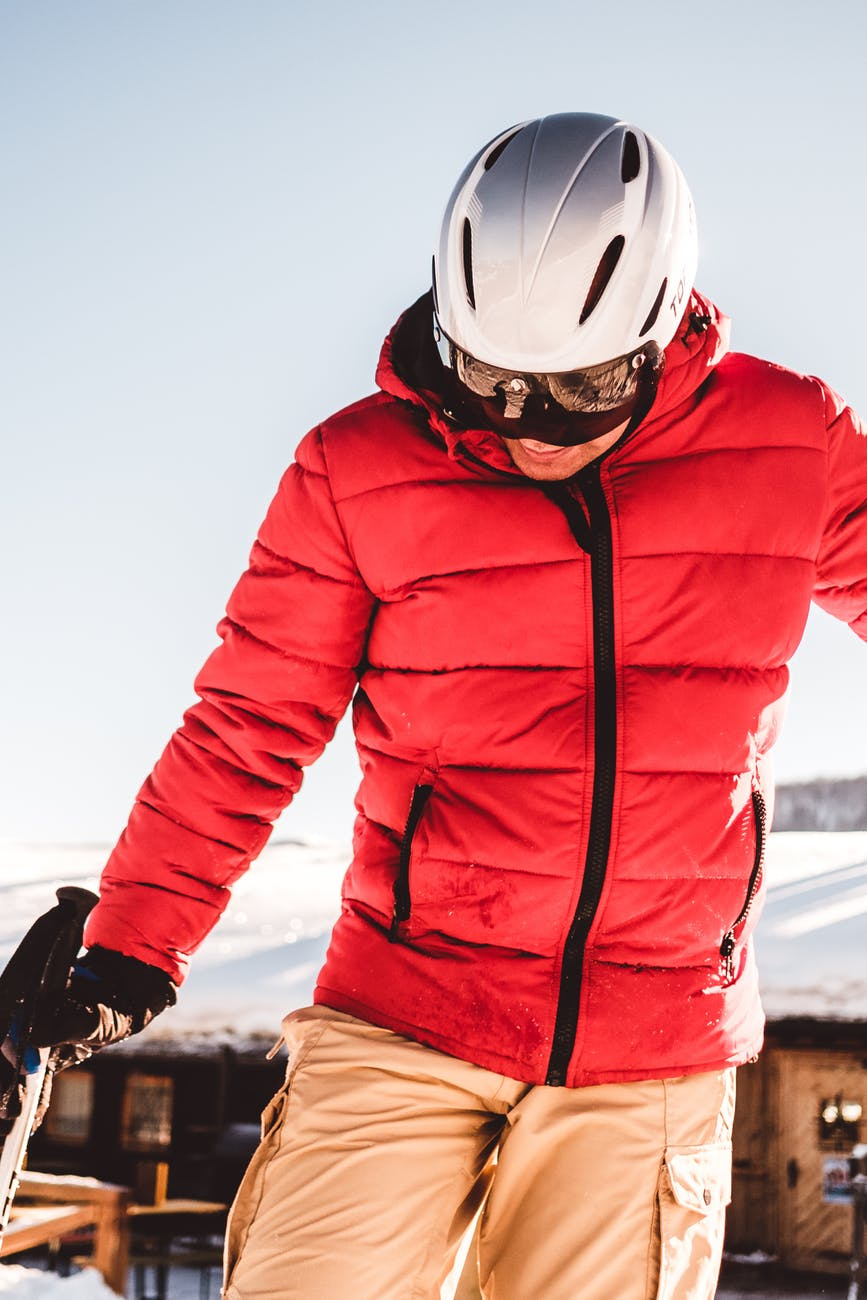helmet: (444, 107, 700, 383)
